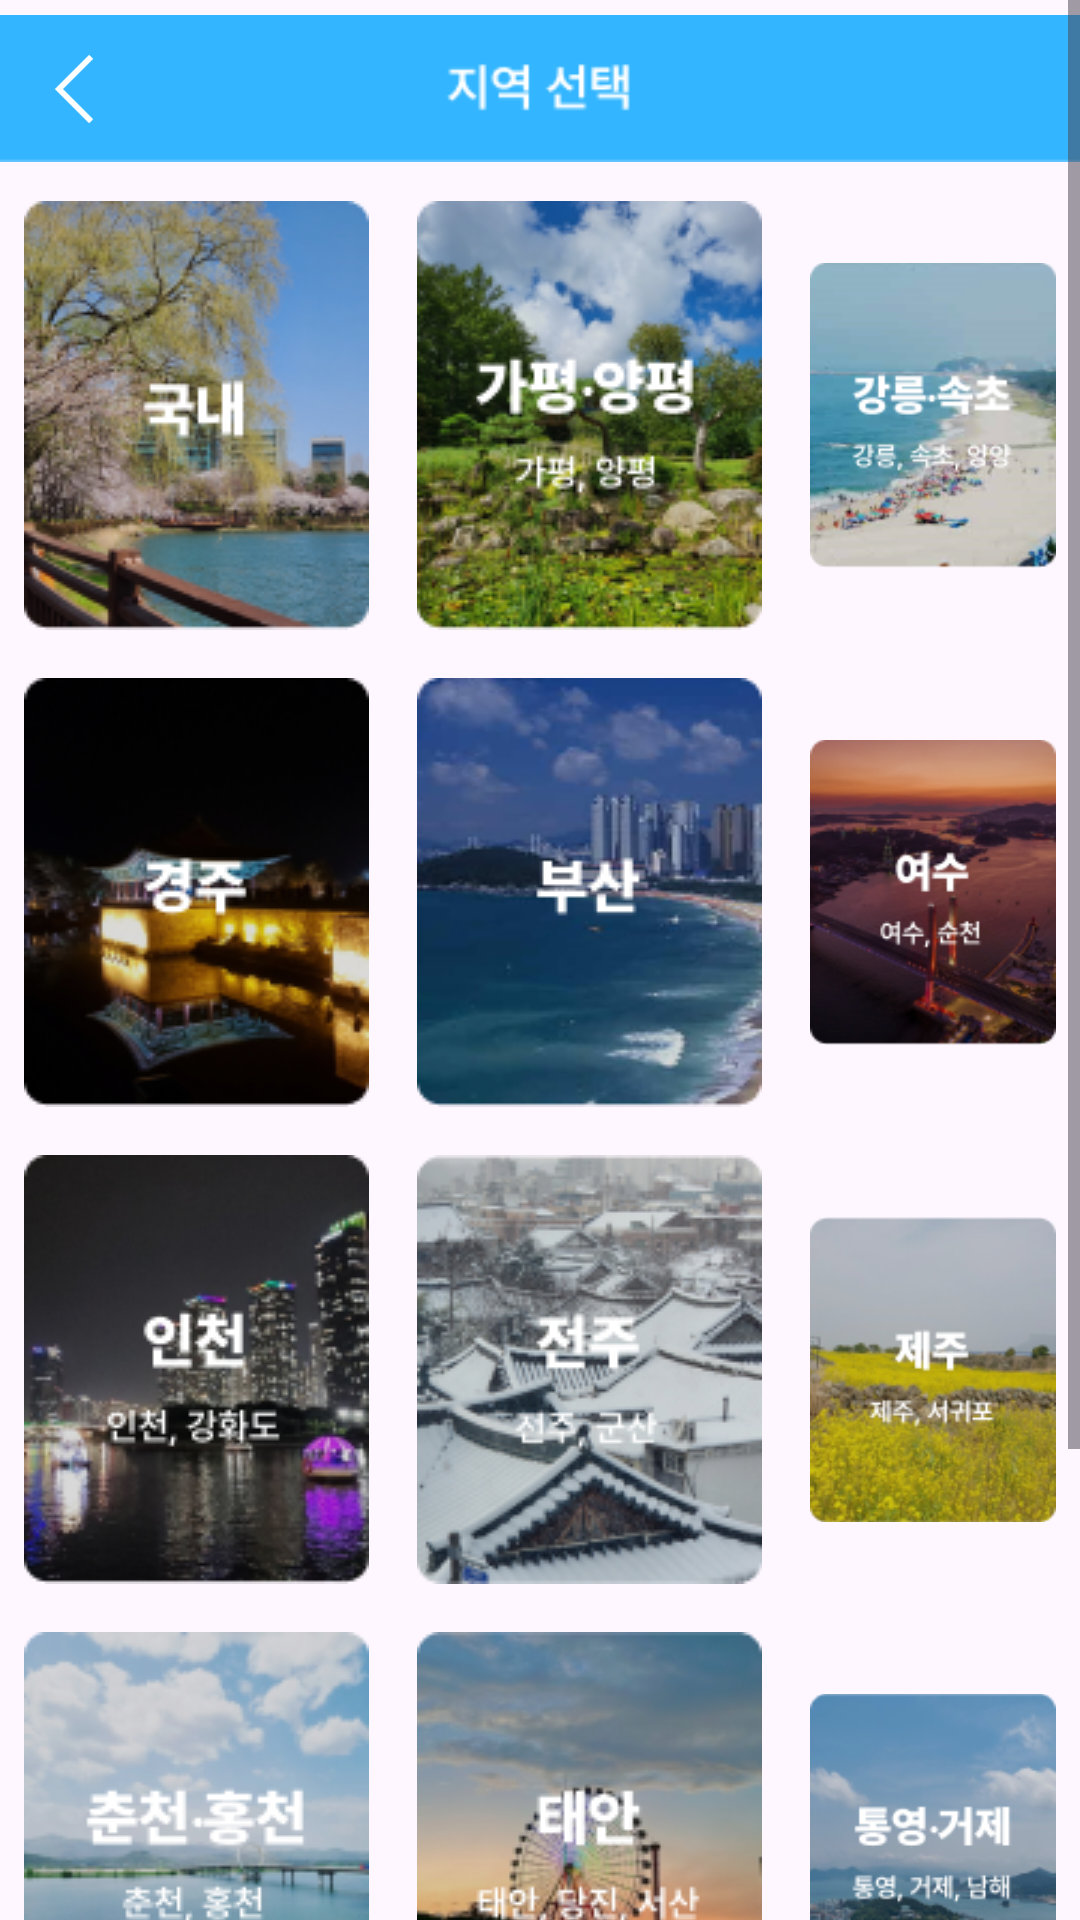

Screen size 1080 × 1920. Icon name, then its box in pixels as (x1, y1, x2, y2):
back: (55, 55, 93, 123)
